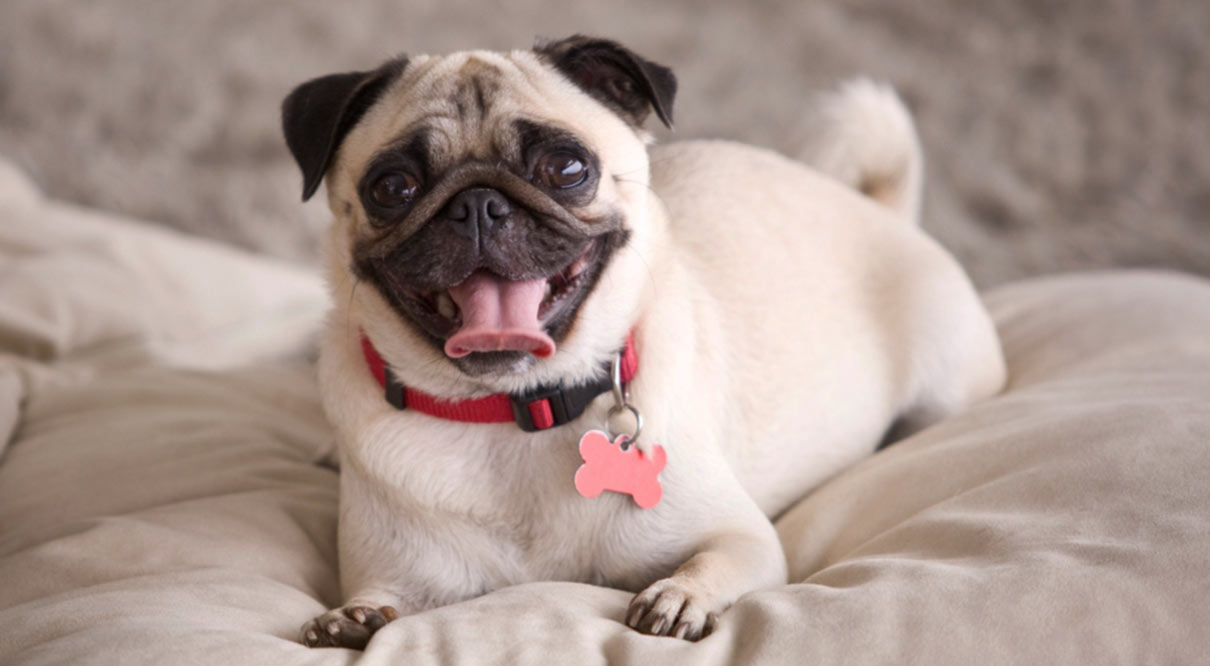dog: (260, 32, 1009, 628)
